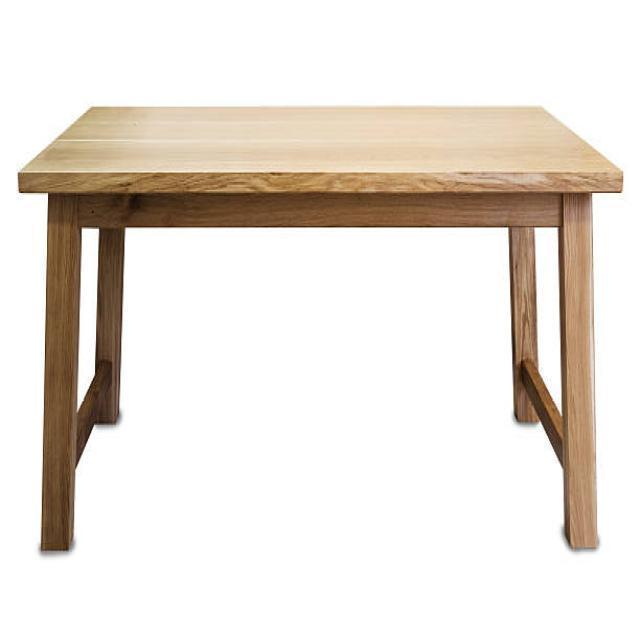table: (16, 102, 624, 556)
